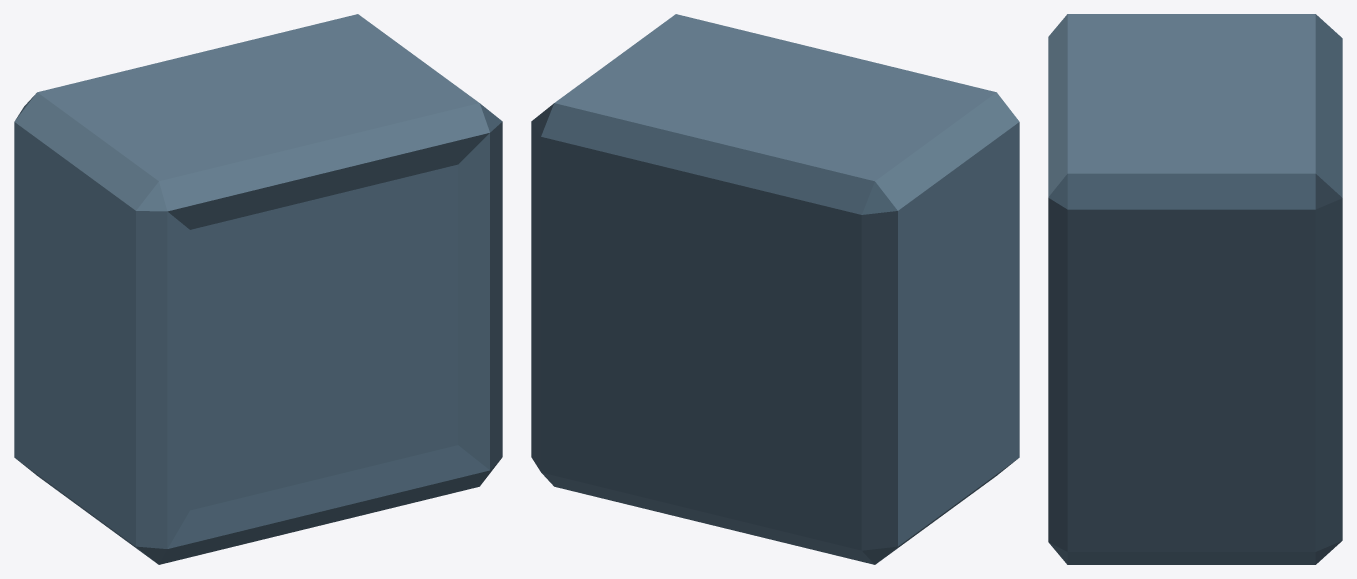
Rendered from Terrain_Block1x1.gltf.
The picture shows the model from 3 angles, left to right: view 1: azimuth 30°, elevation 25°; view 2: azimuth 150°, elevation 25°; view 3: azimuth 270°, elevation 25°; orthographic projection. The views are drawn at different scales.
Parts seen in each view (by area): view 1: Terrain_Block1x1_baked; view 2: Terrain_Block1x1_baked; view 3: Terrain_Block1x1_baked.
Part boxes in pixels (left/top/right/bottom): Terrain_Block1x1_baked: left=14, top=14, right=502, bottom=564; Terrain_Block1x1_baked: left=531, top=14, right=1019, bottom=564; Terrain_Block1x1_baked: left=1048, top=14, right=1342, bottom=564.
Size of the model in its own units: 1 by 1 by 0.6822.
